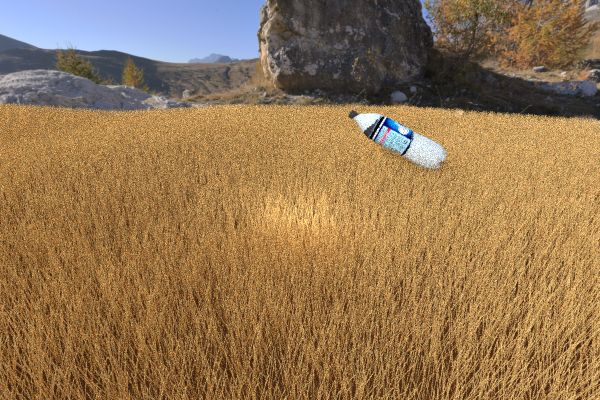Plastic Bottle: (348, 109, 447, 170)
